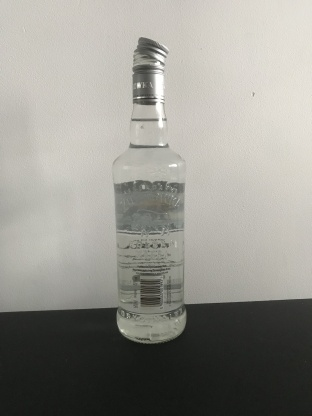nakretka: (130, 34, 170, 105)
